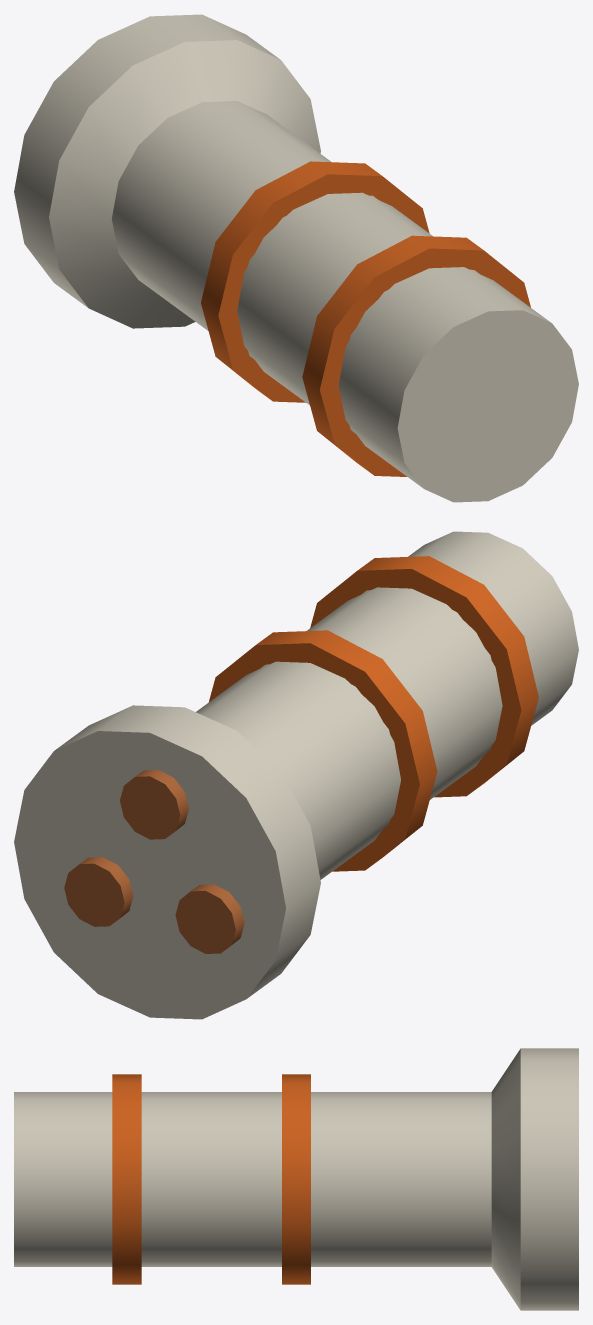
Rendered from u65m_busbar.obj.
The picture shows the model from 3 angles, top to bottom: view 1: azimuth 30°, elevation 25°; view 2: azimuth 150°, elevation 25°; view 3: azimuth 270°, elevation 25°; orthographic projection. The views are drawn at different scales.
Visible parts, largest first — view 1: u65m_busbar; view 2: u65m_busbar; view 3: u65m_busbar.
Boxes of the visible parts, box(x1,y1,x2,y2) form: u65m_busbar: box(14, 14, 578, 502); u65m_busbar: box(14, 531, 578, 1019); u65m_busbar: box(14, 1048, 578, 1310).
Bounding box in the file's own units: 0.72 × 0.72 × 1.55.
